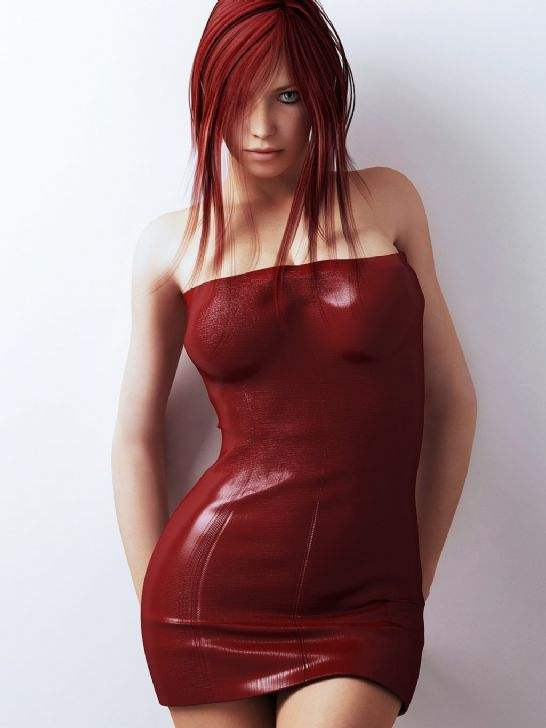person: (130, 18, 466, 728)
